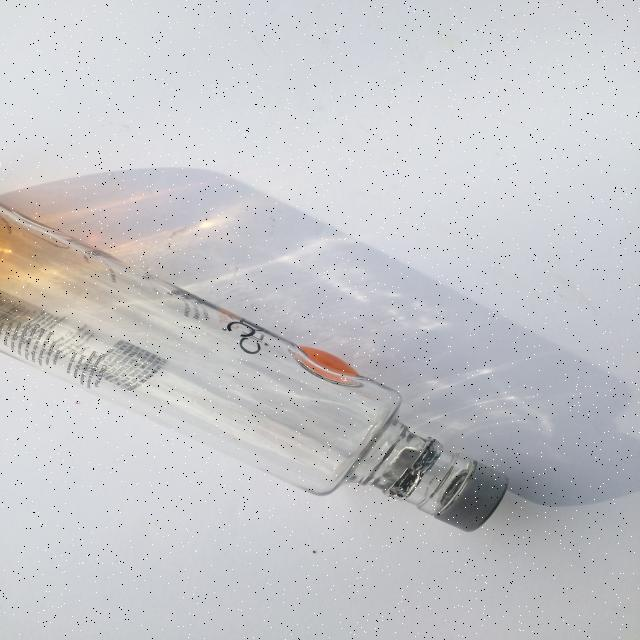glass: (0, 202, 510, 532)
